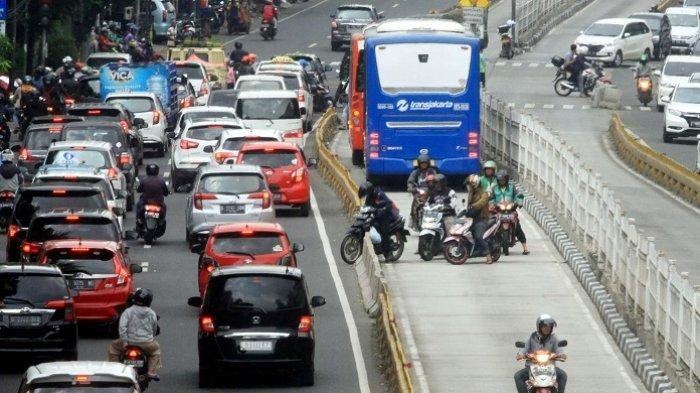car: (364, 32, 481, 191), (192, 264, 316, 387), (8, 184, 113, 274), (37, 239, 135, 335), (200, 221, 304, 310), (23, 211, 127, 300), (187, 166, 282, 254), (1, 264, 79, 360), (32, 163, 119, 247), (62, 123, 135, 213), (237, 139, 312, 221), (100, 62, 178, 140), (169, 115, 248, 189), (233, 91, 308, 160), (213, 129, 288, 197), (18, 122, 78, 191), (107, 92, 169, 158), (575, 18, 652, 68), (167, 47, 228, 100), (279, 53, 329, 111), (169, 57, 212, 118), (655, 55, 700, 110), (329, 5, 378, 51), (664, 81, 700, 143), (628, 12, 669, 62), (664, 7, 700, 53)
motorbike: (108, 289, 163, 392), (341, 182, 407, 266), (447, 174, 501, 264), (514, 314, 567, 393), (418, 174, 461, 262), (554, 46, 615, 103), (491, 172, 530, 256), (138, 163, 170, 241), (409, 156, 439, 230), (124, 25, 163, 64), (258, 1, 279, 41), (228, 41, 248, 81)
